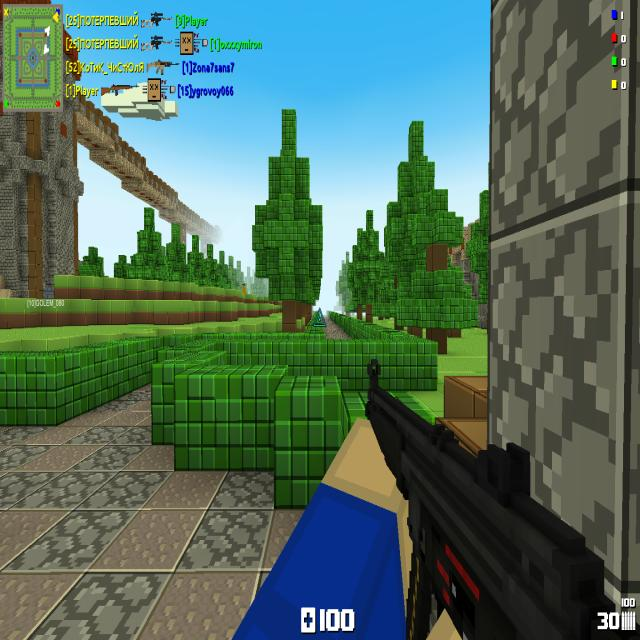enemy: (241, 284, 246, 294)
